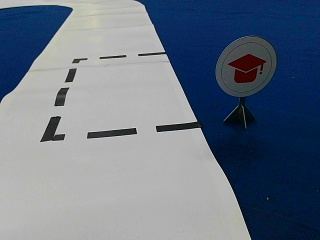school: (216, 37, 276, 97)
